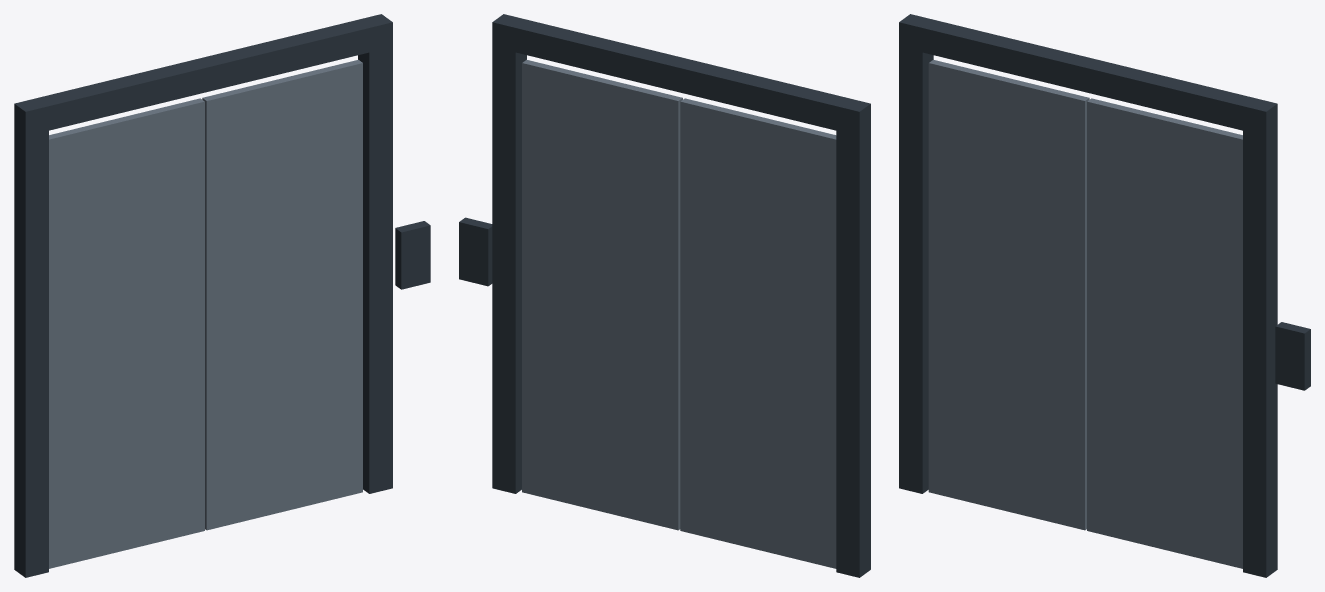
File: TrainingElevatorFacade.obj
3 views of the same model, side by side, from view 1: azimuth 30°, elevation 25°; view 2: azimuth 150°, elevation 25°; view 3: azimuth 330°, elevation 25° (orthographic).
Parts seen in each view (by area): view 1: rightDoor, leftDoor, leftFrame, rightFrame, topFrame, callPanel; view 2: rightDoor, leftDoor, leftFrame, rightFrame, topFrame, callPanel; view 3: leftDoor, rightDoor, rightFrame, leftFrame, topFrame, callPanel.
Boxes of the visible parts, bbox=[...] form: rightDoor: bbox=[202, 59, 362, 530]; leftDoor: bbox=[49, 98, 204, 568]; leftFrame: bbox=[14, 98, 48, 577]; rightFrame: bbox=[358, 14, 392, 493]; topFrame: bbox=[14, 16, 392, 135]; callPanel: bbox=[395, 221, 430, 289]; rightDoor: bbox=[522, 59, 682, 530]; leftDoor: bbox=[680, 98, 836, 568]; leftFrame: bbox=[836, 98, 870, 577]; rightFrame: bbox=[492, 14, 526, 493]; topFrame: bbox=[492, 14, 870, 135]; callPanel: bbox=[459, 217, 492, 286]; leftDoor: bbox=[928, 59, 1089, 530]; rightDoor: bbox=[1087, 98, 1242, 568]; rightFrame: bbox=[1243, 98, 1277, 577]; leftFrame: bbox=[899, 14, 933, 493]; topFrame: bbox=[899, 14, 1277, 134]; callPanel: bbox=[1275, 322, 1310, 390].
Bounding box in the file's own units: 2.07 × 2.28 × 0.1.
